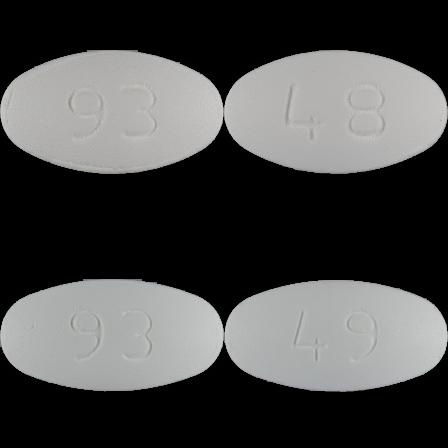0615-7661: (0, 0, 224, 224)
